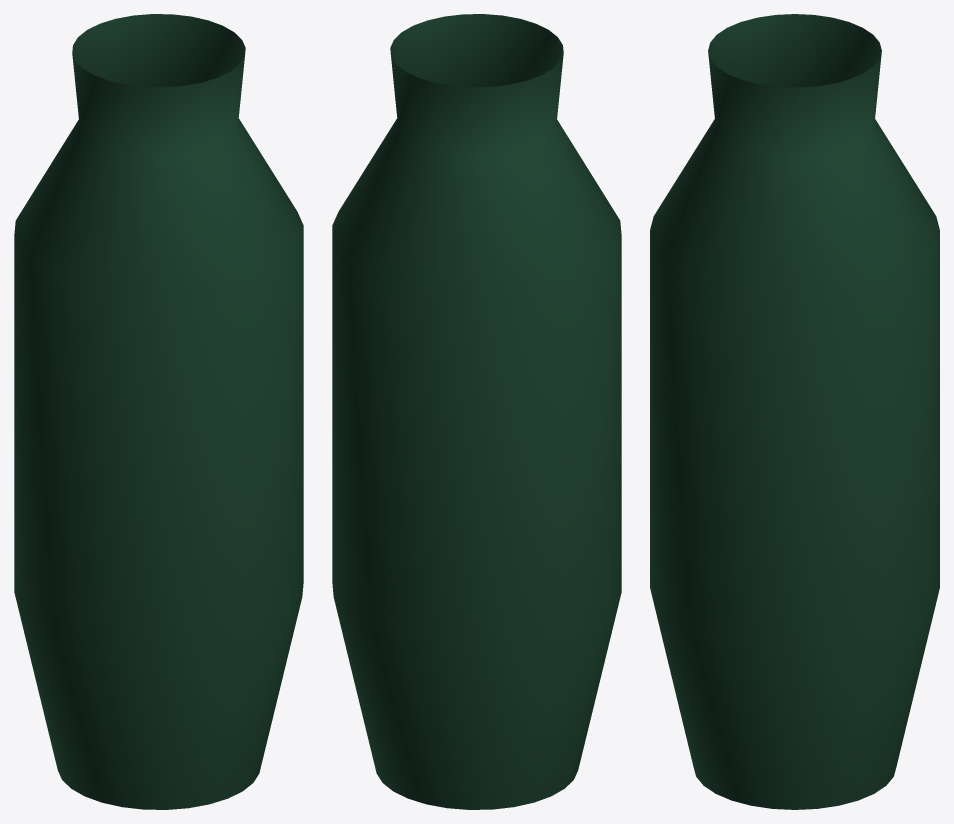
File: BIB-VAS-tall.glb
3 views of the same model, side by side, from view 1: azimuth 30°, elevation 25°; view 2: azimuth 150°, elevation 25°; view 3: azimuth 270°, elevation 25° (orthographic).
Parts seen in each view (by area): view 1: BIB-VAS-tall; view 2: BIB-VAS-tall; view 3: BIB-VAS-tall.
Boxes of the visible parts, x1,y1,x2,y2 form: BIB-VAS-tall: [14, 14, 303, 809]; BIB-VAS-tall: [332, 14, 621, 809]; BIB-VAS-tall: [650, 14, 939, 809].
Bounding box in the file's own units: 0.22 × 0.6 × 0.22.
